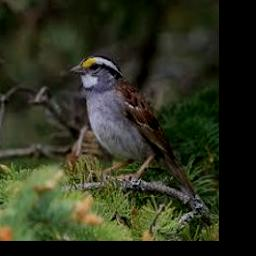Sparrow: (70, 55, 197, 202)
